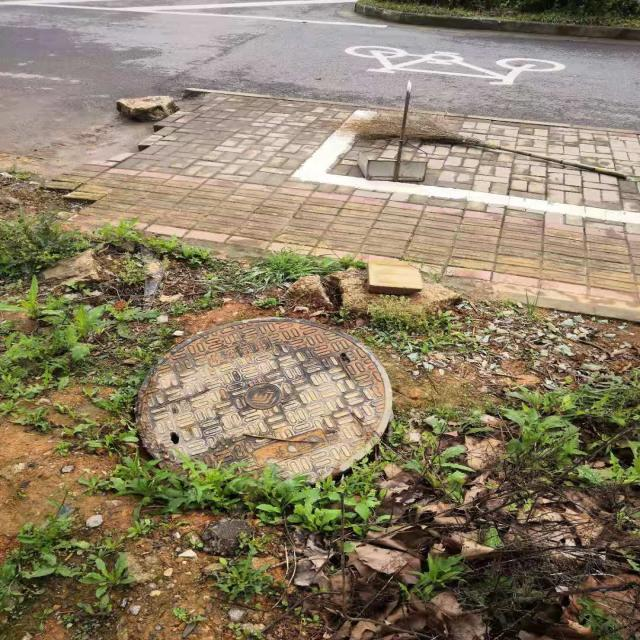Lose: (135, 318, 394, 488)
